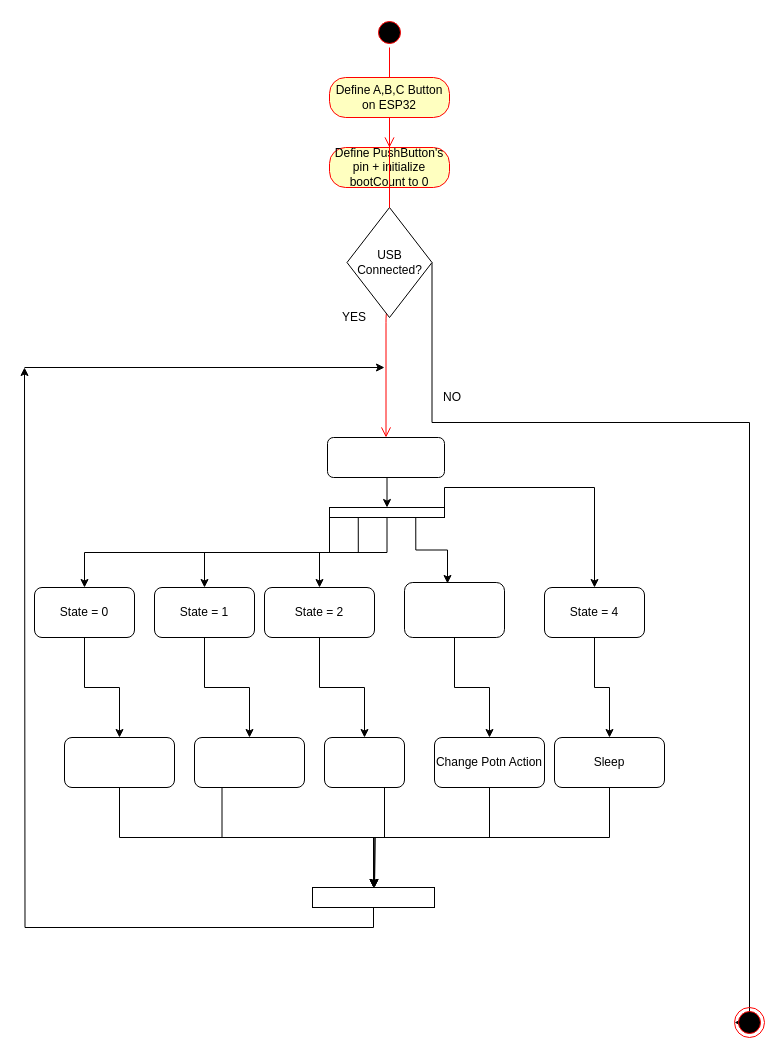
Some shapes in this 782 by 1055 pixel diagram are drawn without their labels. Each missing label, with the box of its shape:
Change Temp C/F: (194, 736, 304, 788)
Display Temp/Humid: (64, 736, 174, 788)
Push Button = 1 & Prev Button State = 0: (326, 436, 444, 478)
State = 3: (404, 582, 504, 638)
Turn On/Off: (324, 736, 404, 788)
